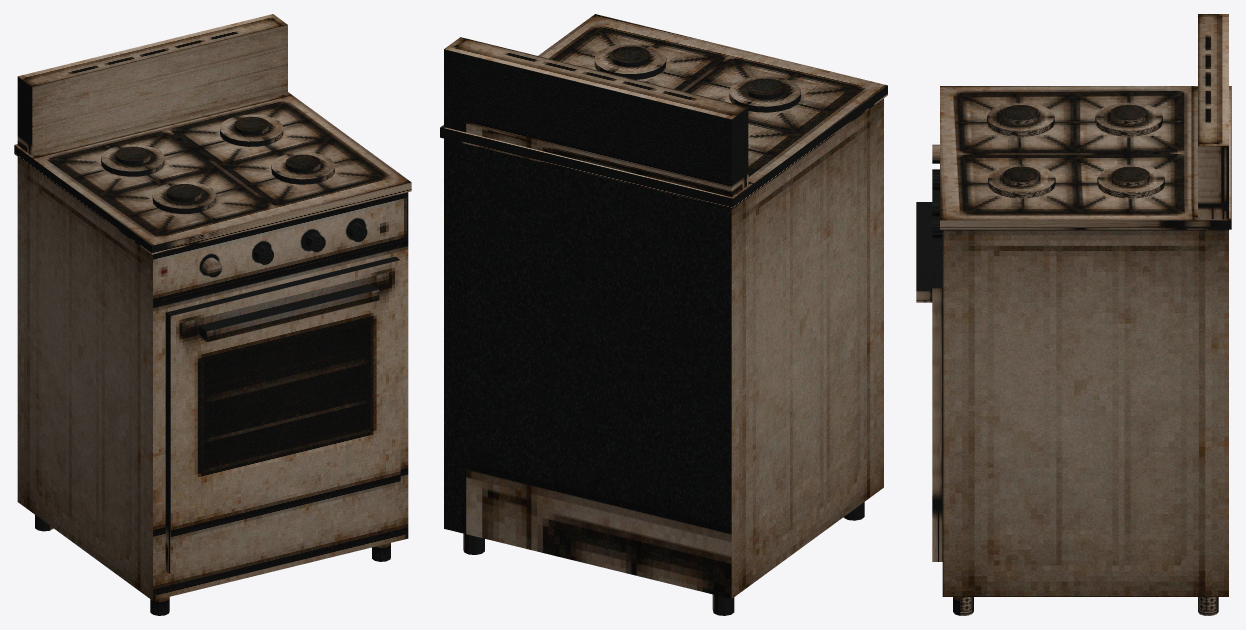
File: env_stove.glb
3 views of the same model, side by side, from view 1: azimuth 30°, elevation 25°; view 2: azimuth 150°, elevation 25°; view 3: azimuth 270°, elevation 25° (orthographic). The views are drawn at different scales.
Visible parts, largest first — view 1: env_stove; view 2: env_stove; view 3: env_stove.
Boxes of the visible parts, left/top/right/bottom form: env_stove: left=14, top=14, right=411, bottom=615; env_stove: left=440, top=14, right=887, bottom=615; env_stove: left=916, top=14, right=1231, bottom=615.
Size of the model in its own units: 0.873 by 1.44 by 0.8666.
Materials: 1 (1 with a texture image).
